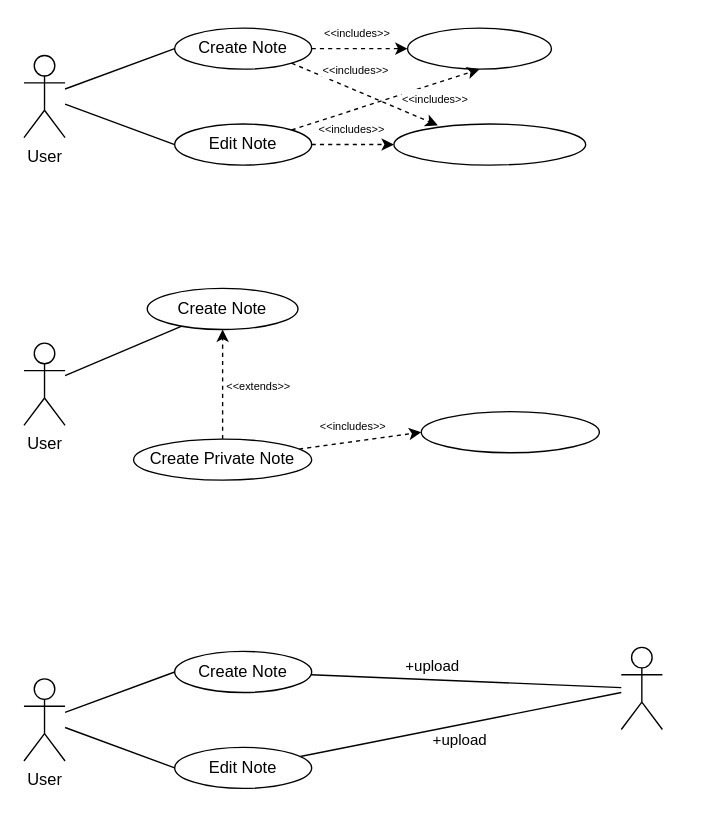
The diagram is 707 pixels wide and 814 high, and some of its shapes have lost their labels. The shapes that lost their labels are listed below. From the top down, each one's centre as x and y in pixels, then its label:
pixel 478 48: Attach Photo
pixel 489 144: Add handwritten sketch
pixel 509 431: Protect with password
pixel 641 688: Cloud User
